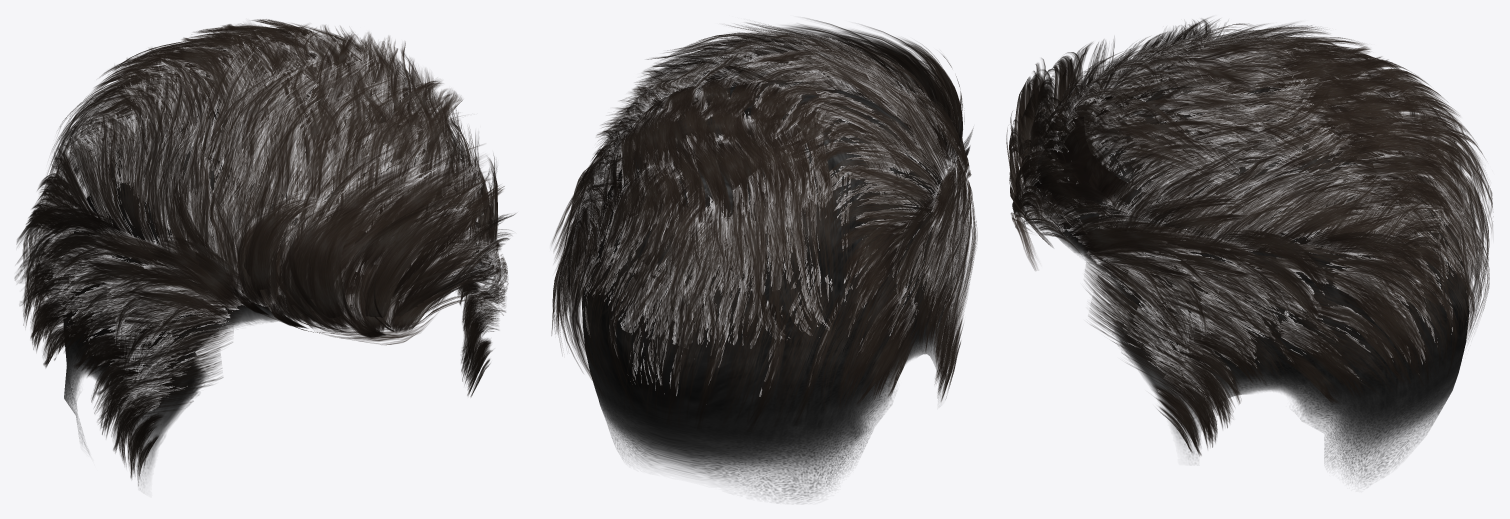
The model's file is Straight_CrewCut.glb.
3 renders of one model, left to right at view 1: azimuth 30°, elevation 25°; view 2: azimuth 150°, elevation 25°; view 3: azimuth 270°, elevation 25°, orthographic. The views are drawn at different scales.
Visible parts, largest first — view 1: s4studio_mesh_2, s4studio_mesh_3, face.002_Plane.003; view 2: s4studio_mesh_2, s4studio_mesh_3, face.002_Plane.003; view 3: s4studio_mesh_2, s4studio_mesh_3, face.002_Plane.003.
Part boxes in pixels (x1,y1,x2,y2): s4studio_mesh_2: (24, 19, 515, 466); s4studio_mesh_3: (14, 26, 508, 485); face.002_Plane.003: (63, 89, 482, 484); s4studio_mesh_2: (552, 19, 973, 414); s4studio_mesh_3: (551, 38, 977, 431); face.002_Plane.003: (582, 80, 956, 502); s4studio_mesh_2: (1006, 17, 1492, 440); s4studio_mesh_3: (1012, 21, 1489, 455); face.002_Plane.003: (1050, 83, 1469, 484).
Size of the model in its own units: 0.2093 by 0.2358 by 0.2475.
2 materials, 2 textured.
